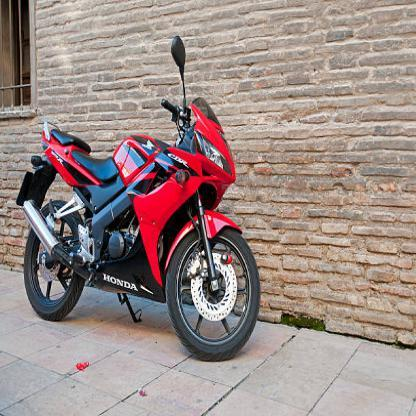Motorcycle: (17, 40, 262, 365)
